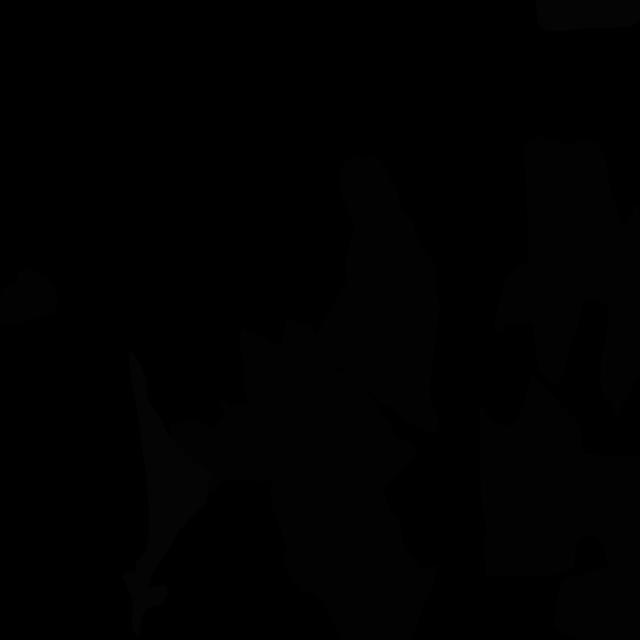cardboard: (270, 370, 441, 640), (480, 374, 640, 640), (494, 136, 640, 419), (310, 153, 440, 413), (169, 319, 325, 493), (339, 296, 441, 436), (0, 267, 59, 327)
soft_plastic: (122, 351, 214, 637), (536, 0, 640, 31)
